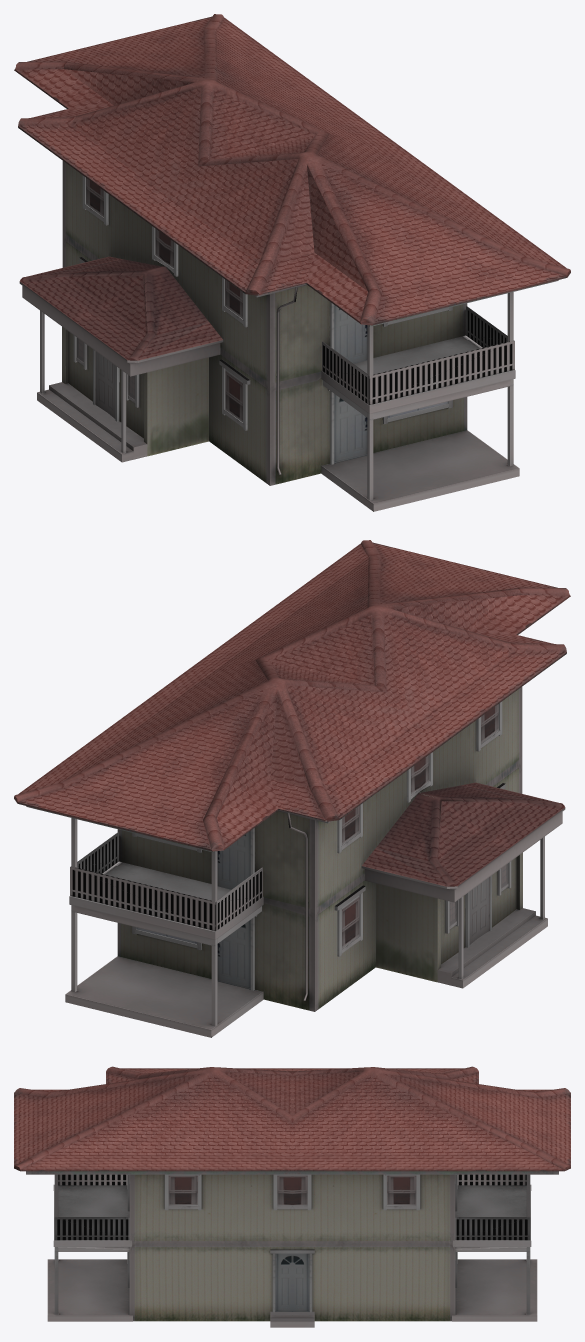
Rendered from house23.obj.
The picture shows the model from 3 angles, top to bottom: view 1: azimuth 30°, elevation 25°; view 2: azimuth 150°, elevation 25°; view 3: azimuth 270°, elevation 25°; orthographic projection. The views are drawn at different scales.
Visible parts, largest first — view 1: City_building_034.001; view 2: City_building_034.001; view 3: City_building_034.001.
Boxes of the visible parts, left/top/right/bottom form: City_building_034.001: left=14, top=14, right=570, bottom=511; City_building_034.001: left=14, top=540, right=570, bottom=1037; City_building_034.001: left=14, top=1066, right=570, bottom=1327.
Size of the model in its own units: 2.09 by 1.66 by 3.96.
1 material, 1 textured.
